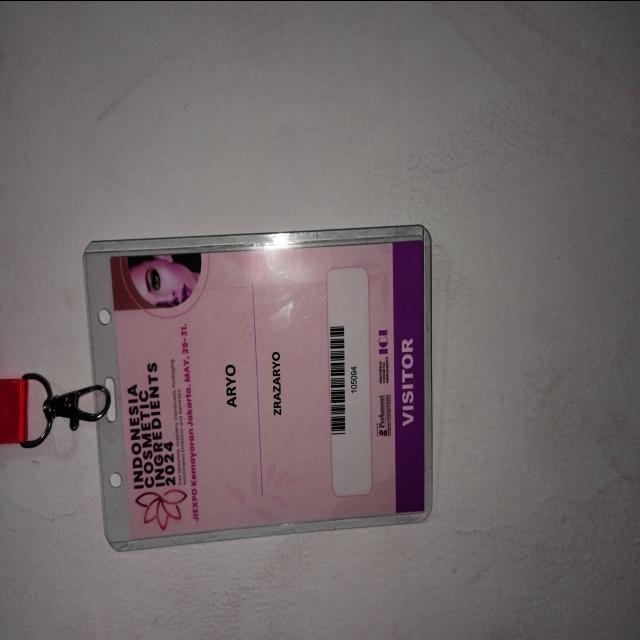ID_card: (82, 224, 432, 553)
